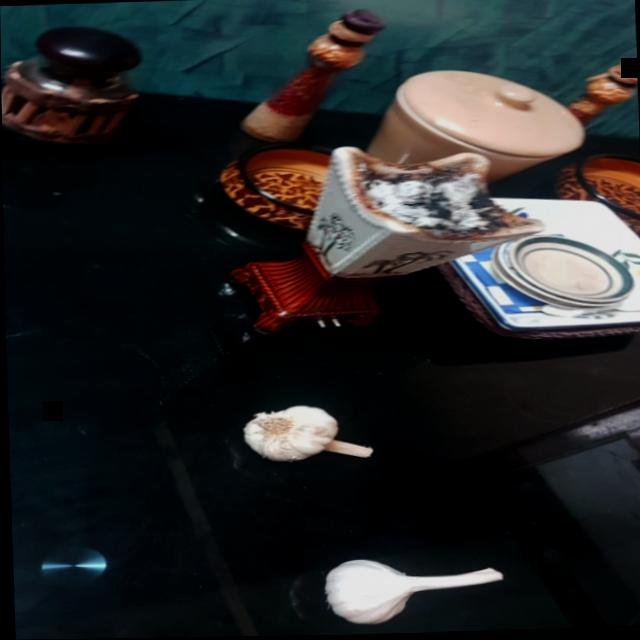garlic: (318, 555, 510, 627), (239, 400, 375, 477)
